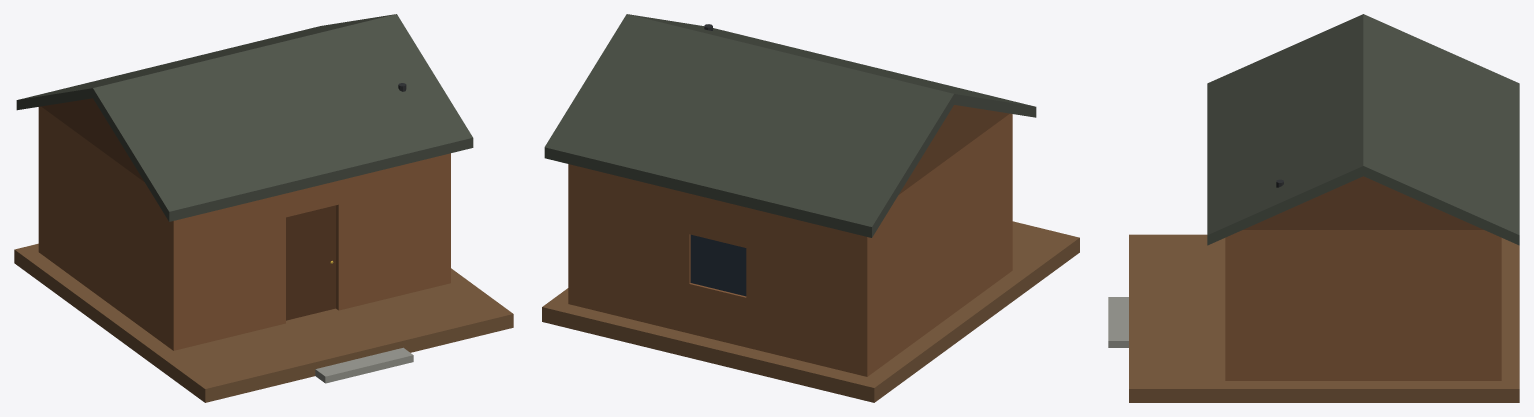
The model's file is Cabin.glb.
The picture shows the model from 3 angles, left to right: view 1: azimuth 30°, elevation 25°; view 2: azimuth 150°, elevation 25°; view 3: azimuth 270°, elevation 25°; orthographic projection. The views are drawn at different scales.
Parts seen in each view (by area): view 1: Roof, Deck, WallSideL, WallFrontL, WallFrontR, Door, GableL, Step, WallFrontTop, WallBackL; view 2: Roof, WallSideL, WallBackL, WallBackR, Deck, WallBackLow, GableL, BackGlass, WallBackTop, WallFrontL; view 3: Roof, WallSideR, Deck, GableR, WallFrontR, WallBackR, Step.
Part boxes in pixels (x1,y1,x2,y2): Roof: [16, 14, 473, 221]; Deck: [14, 243, 513, 402]; WallSideL: [42, 108, 169, 347]; WallFrontL: [169, 193, 285, 350]; WallFrontR: [336, 153, 450, 310]; Door: [286, 205, 335, 320]; GableL: [41, 98, 144, 181]; Step: [315, 347, 413, 383]; WallFrontTop: [286, 180, 338, 217]; WallBackL: [38, 106, 42, 254]; Roof: [544, 14, 1036, 237]; WallSideL: [871, 115, 1008, 373]; WallBackL: [746, 207, 871, 376]; WallBackR: [568, 164, 690, 333]; Deck: [542, 221, 1079, 402]; WallBackLow: [689, 283, 746, 347]; GableL: [899, 105, 1009, 194]; BackGlass: [690, 234, 746, 296]; WallBackTop: [689, 193, 746, 247]; WallFrontL: [1008, 113, 1012, 273]; Roof: [1207, 14, 1519, 245]; WallSideR: [1233, 230, 1493, 380]; Deck: [1129, 234, 1519, 402]; GableR: [1243, 176, 1483, 229]; WallFrontR: [1225, 234, 1233, 380]; WallBackR: [1493, 234, 1501, 380]; Step: [1108, 297, 1128, 347].
Size of the model in its own units: 7 by 5 by 7.9.
